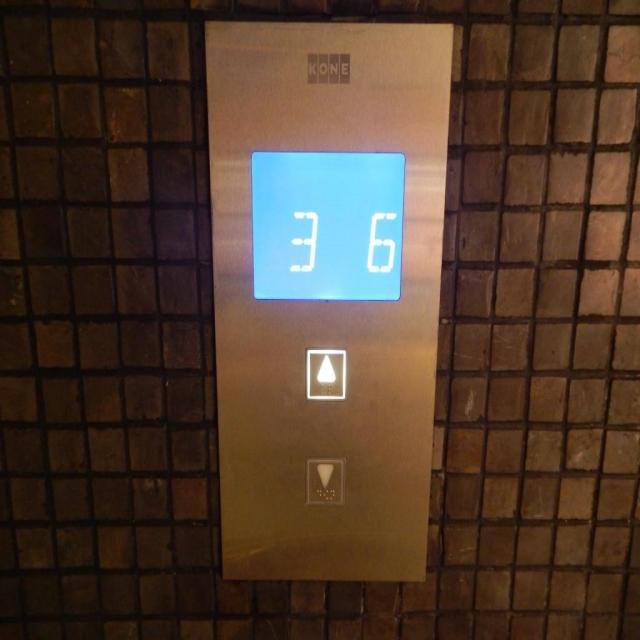down: (304, 456, 345, 506)
led: (250, 151, 404, 300)
up: (304, 346, 348, 402)
